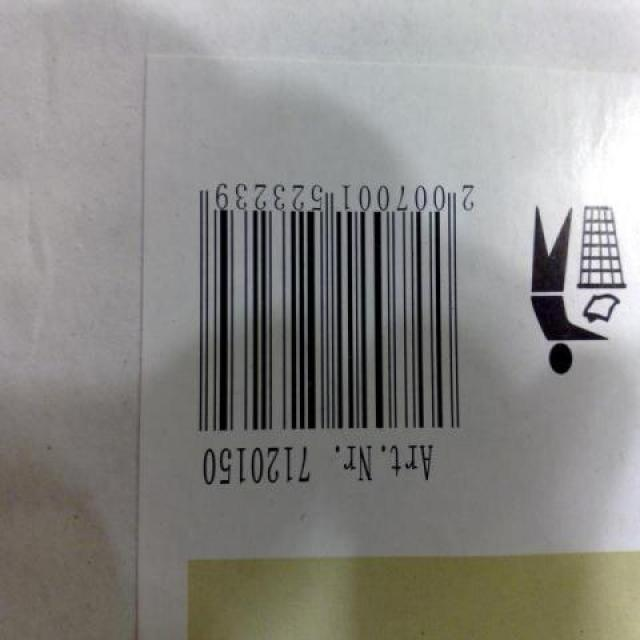Barcode: (167, 144, 510, 527)
